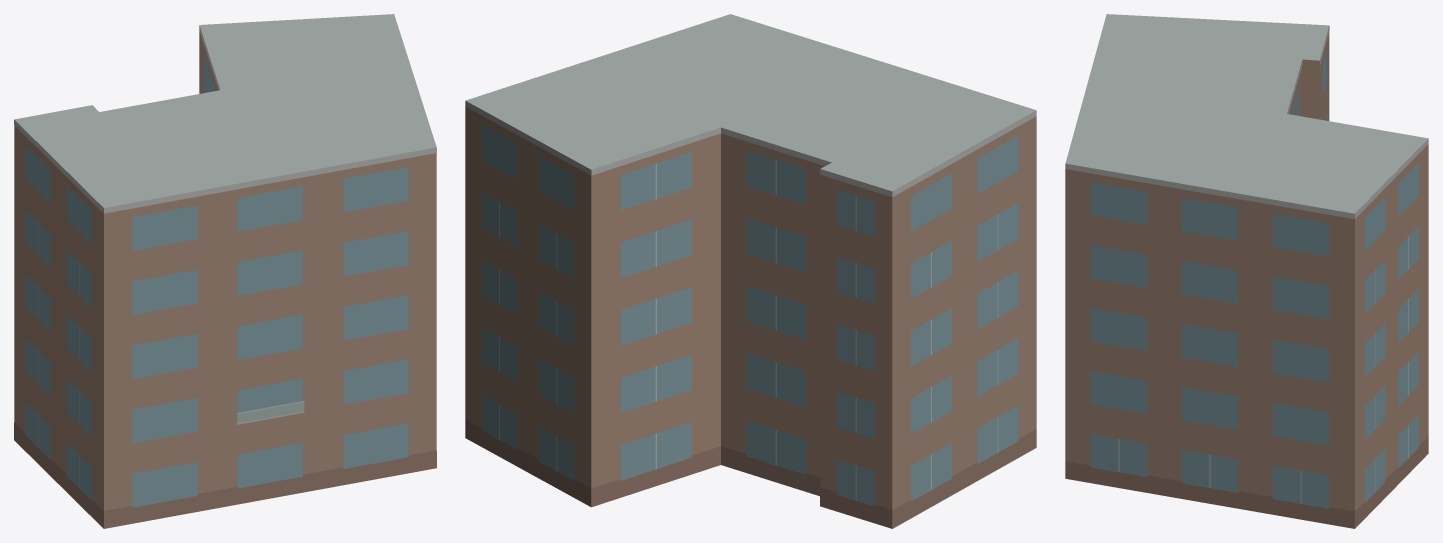
File: survey-upis-32534835.glb
3 renders of one model, left to right at view 1: azimuth 30°, elevation 25°; view 2: azimuth 150°, elevation 25°; view 3: azimuth 270°, elevation 25°, orthographic. The views are drawn at different scales.
Visible parts, largest first — view 1: survey-upis-32534835.tmp; view 2: survey-upis-32534835.tmp; view 3: survey-upis-32534835.tmp.
Boxes of the visible parts, <box> form: survey-upis-32534835.tmp: <box>14,14,436,528</box>; survey-upis-32534835.tmp: <box>465,14,1036,528</box>; survey-upis-32534835.tmp: <box>1065,14,1428,528</box>.
Bounding box in the file's own units: 19.04 × 14 × 14.63.
